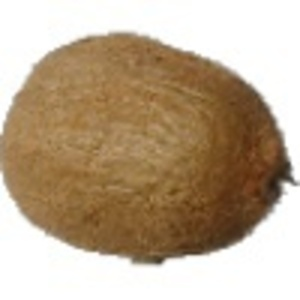kiwi: (1, 29, 294, 269)
